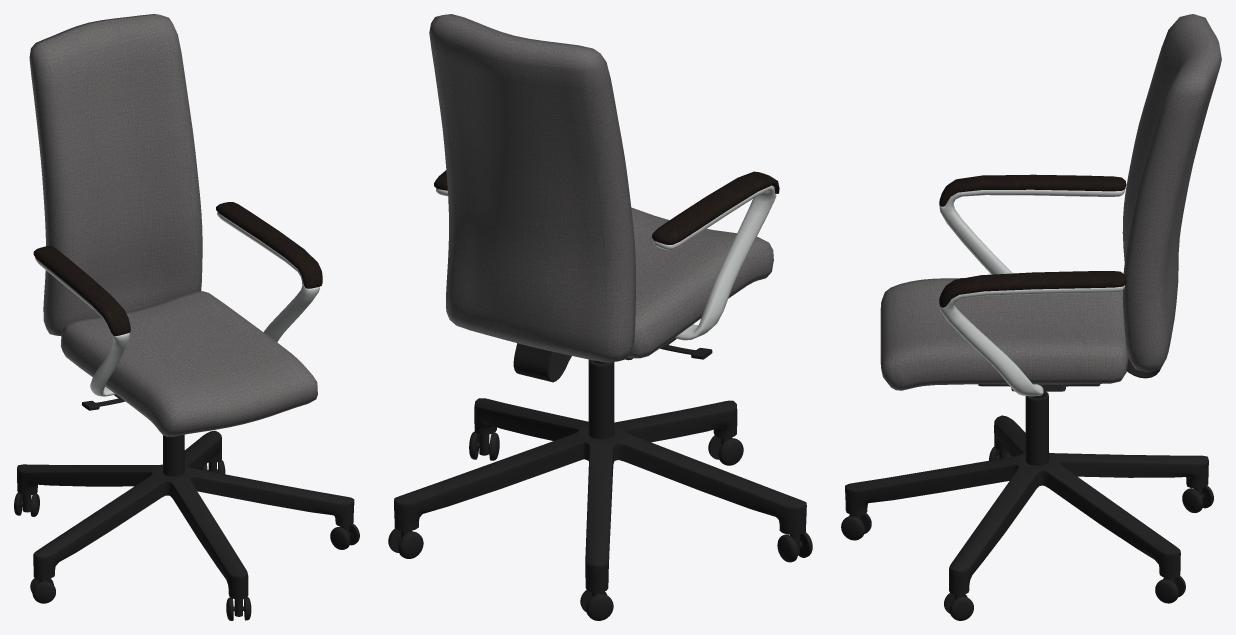
The model's file is stylish_regular_office_chair.glb.
3 renders of one model, left to right at view 1: azimuth 30°, elevation 25°; view 2: azimuth 150°, elevation 25°; view 3: azimuth 270°, elevation 25°, orthographic. The views are drawn at different scales.
Parts seen in each view (by area): view 1: Office_chair_type3; view 2: Office_chair_type3; view 3: Office_chair_type3.
Boxes of the visible parts, left/top/right/bottom form: Office_chair_type3: left=14, top=14, right=359, bottom=620; Office_chair_type3: left=388, top=14, right=812, bottom=620; Office_chair_type3: left=841, top=14, right=1221, bottom=620.
Bounding box in the file's own units: 2.04 × 3.01 × 2.06.
Materials: 1 (1 with a texture image).
